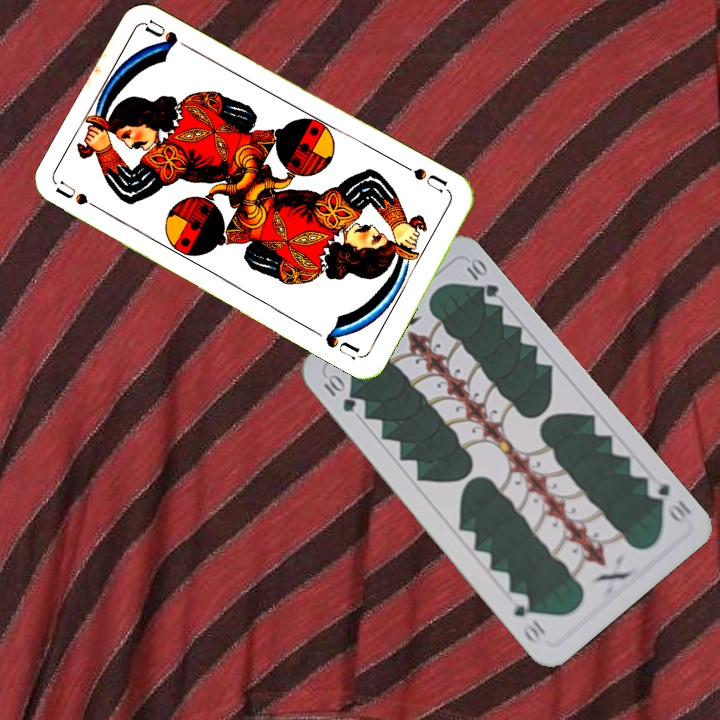G10: (642, 474, 695, 527), (319, 370, 359, 415)
SU: (53, 177, 109, 216), (398, 160, 453, 196)
